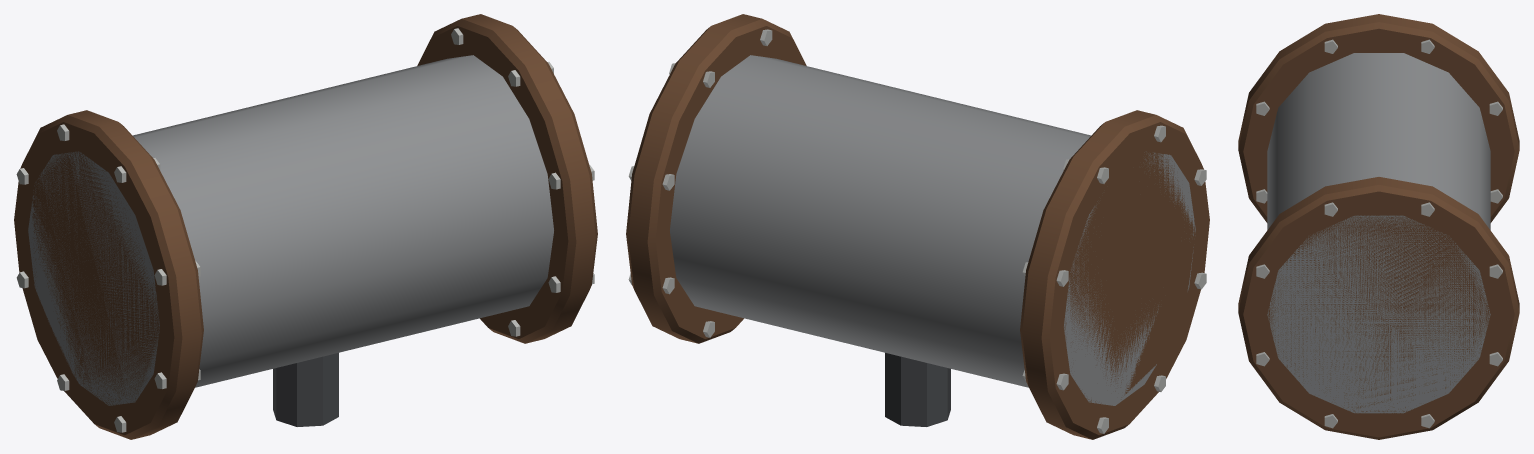
The model's file is pipe-straight-horizontal.glb.
The picture shows the model from 3 angles, left to right: view 1: azimuth 30°, elevation 25°; view 2: azimuth 150°, elevation 25°; view 3: azimuth 270°, elevation 25°; orthographic projection. The views are drawn at different scales.
Parts seen in each view (by area): view 1: body; view 2: body; view 3: body.
Boxes of the visible parts, <box> form: body: <box>14,14,597,439</box>; body: <box>626,14,1209,439</box>; body: <box>1238,14,1519,439</box>.
Size of the model in its own units: 1.02 by 0.76 by 0.68.
